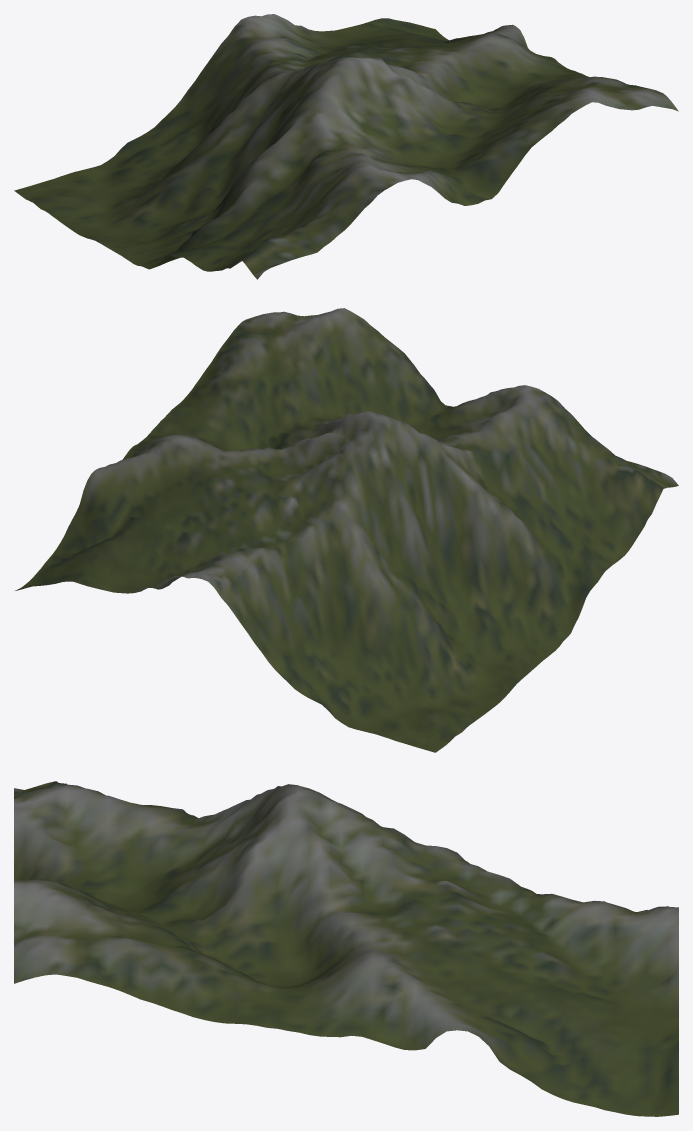
File: TownLandscape_Mesh_x0125_0_0.fbx
3 renders of one model, top to bottom at view 1: azimuth 30°, elevation 25°; view 2: azimuth 150°, elevation 25°; view 3: azimuth 270°, elevation 25°, orthographic. The views are drawn at different scales.
Parts seen in each view (by area): view 1: Terrain; view 2: Terrain; view 3: Terrain.
Boxes of the visible parts, bbox=[...] form: Terrain: bbox=[14, 14, 678, 279]; Terrain: bbox=[15, 308, 678, 752]; Terrain: bbox=[14, 781, 678, 1116].
Size of the model in its own units: 1024 by 432 by 1024.
